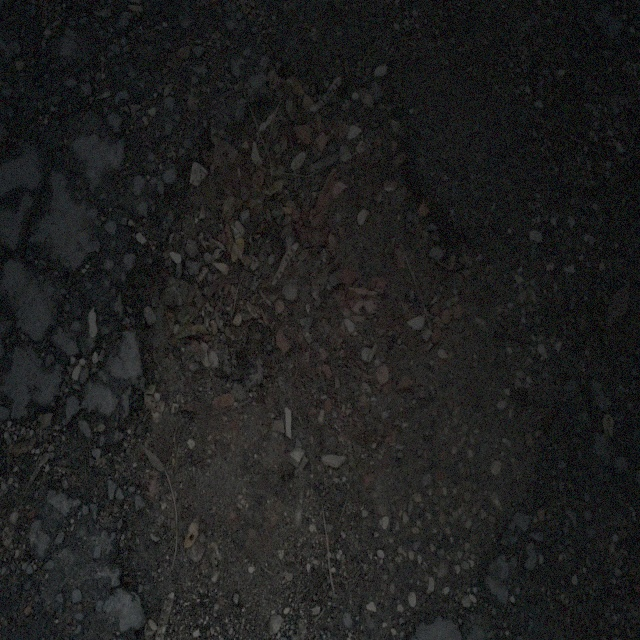pothole: (110, 70, 542, 570)
